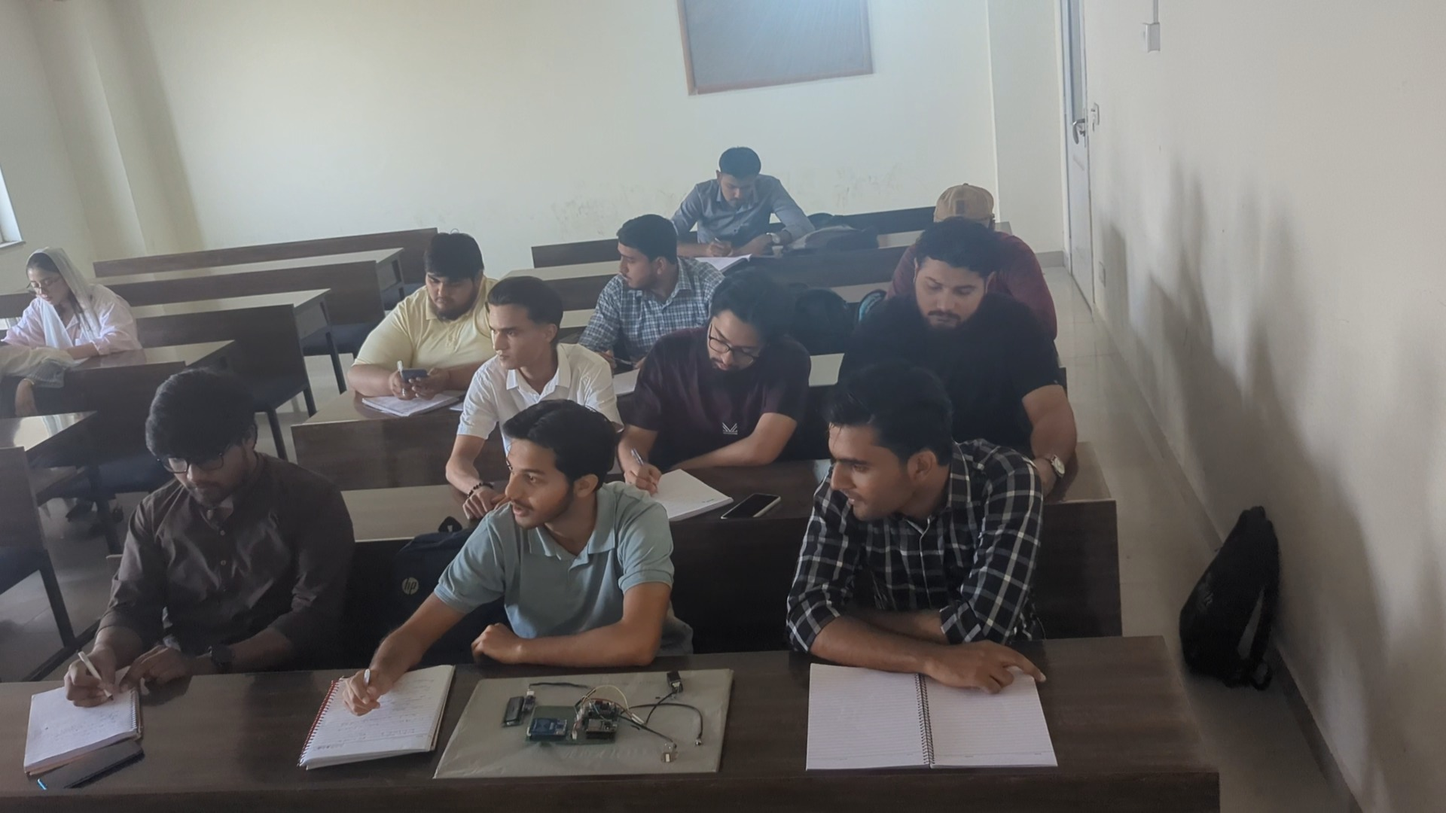look_forward: (790, 365, 1052, 697), (460, 397, 682, 668), (444, 277, 605, 394)
turn_head: (864, 225, 1037, 361), (582, 210, 704, 314)
using_device: (345, 226, 487, 405)
write: (63, 366, 308, 723), (627, 282, 811, 494), (0, 247, 152, 367), (677, 146, 810, 268)
